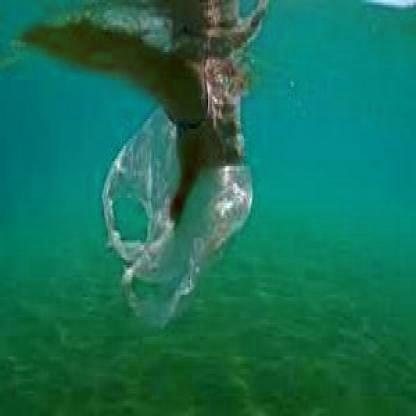pbag: (100, 79, 252, 332)
